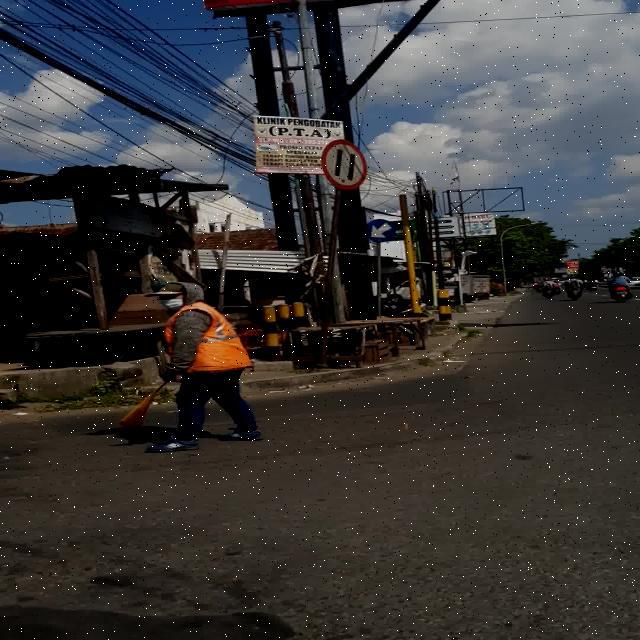Larangan Muatan - 10 ton: (322, 140, 367, 190)
